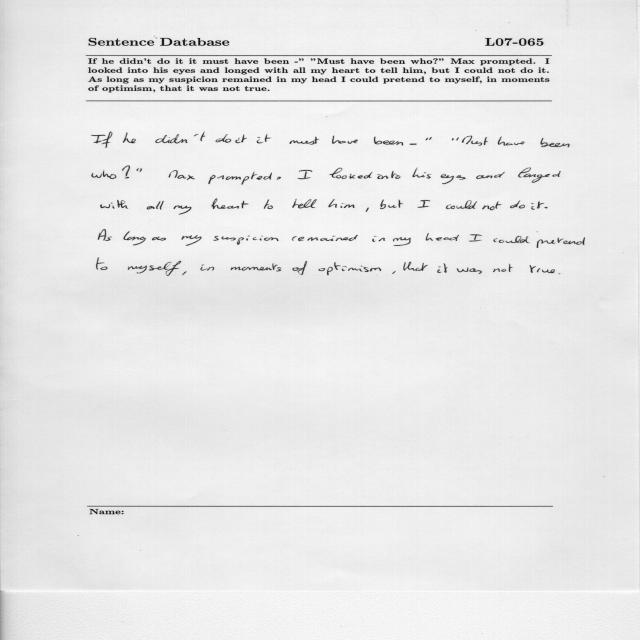word: (208, 172, 272, 185), (318, 262, 381, 275), (128, 261, 181, 276), (518, 167, 561, 183), (213, 236, 279, 245), (155, 133, 206, 144), (537, 237, 585, 248), (330, 168, 373, 179), (231, 264, 281, 272), (292, 235, 358, 241), (212, 199, 249, 209), (91, 132, 113, 148), (123, 231, 146, 245), (446, 200, 477, 209), (426, 233, 459, 241), (374, 137, 403, 146), (541, 138, 570, 147), (462, 136, 488, 146), (122, 166, 142, 179), (493, 236, 530, 243), (100, 200, 128, 209), (441, 174, 466, 184), (292, 199, 317, 209), (498, 137, 525, 146), (290, 137, 320, 145), (332, 135, 358, 144), (329, 199, 355, 208), (403, 262, 428, 271), (182, 235, 202, 246), (92, 170, 116, 179), (292, 261, 307, 275), (529, 265, 555, 273), (380, 200, 403, 209), (476, 172, 505, 179), (378, 171, 401, 179), (413, 168, 431, 178), (482, 202, 502, 211), (98, 229, 112, 241), (174, 206, 192, 215), (393, 237, 411, 246), (493, 264, 513, 272), (456, 268, 482, 274), (147, 201, 164, 210), (123, 133, 136, 144), (257, 134, 271, 144), (216, 134, 231, 143), (97, 258, 108, 270), (298, 170, 312, 179), (510, 201, 525, 209), (531, 201, 544, 210), (437, 263, 448, 273), (469, 234, 482, 242), (235, 135, 247, 143), (418, 200, 430, 208), (177, 175, 195, 180), (201, 265, 215, 271), (264, 200, 273, 209), (168, 170, 178, 178), (372, 236, 385, 242), (152, 237, 166, 241), (452, 137, 459, 141), (182, 271, 187, 275), (426, 137, 432, 140), (366, 207, 369, 212), (410, 143, 417, 145), (277, 177, 281, 180), (392, 271, 396, 274), (544, 207, 548, 209), (559, 273, 561, 274)
